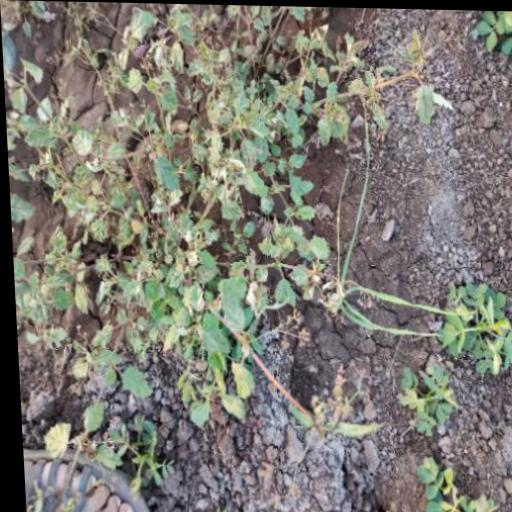weed: (6, 5, 376, 412)
